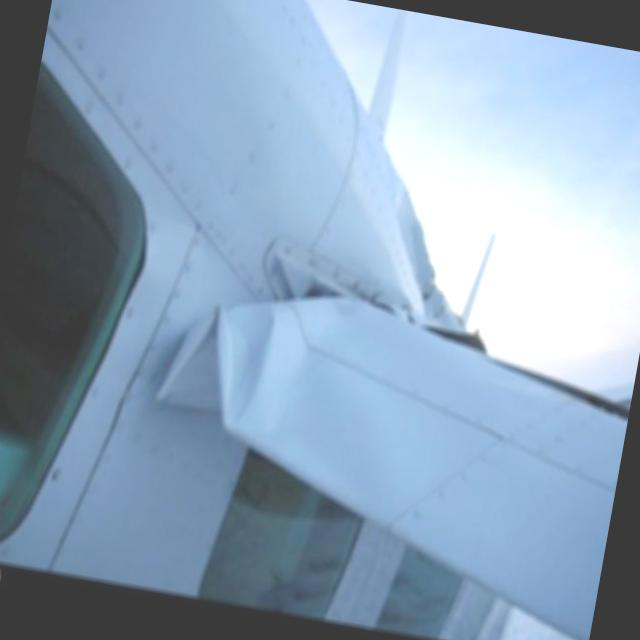dent: (153, 288, 280, 436)
